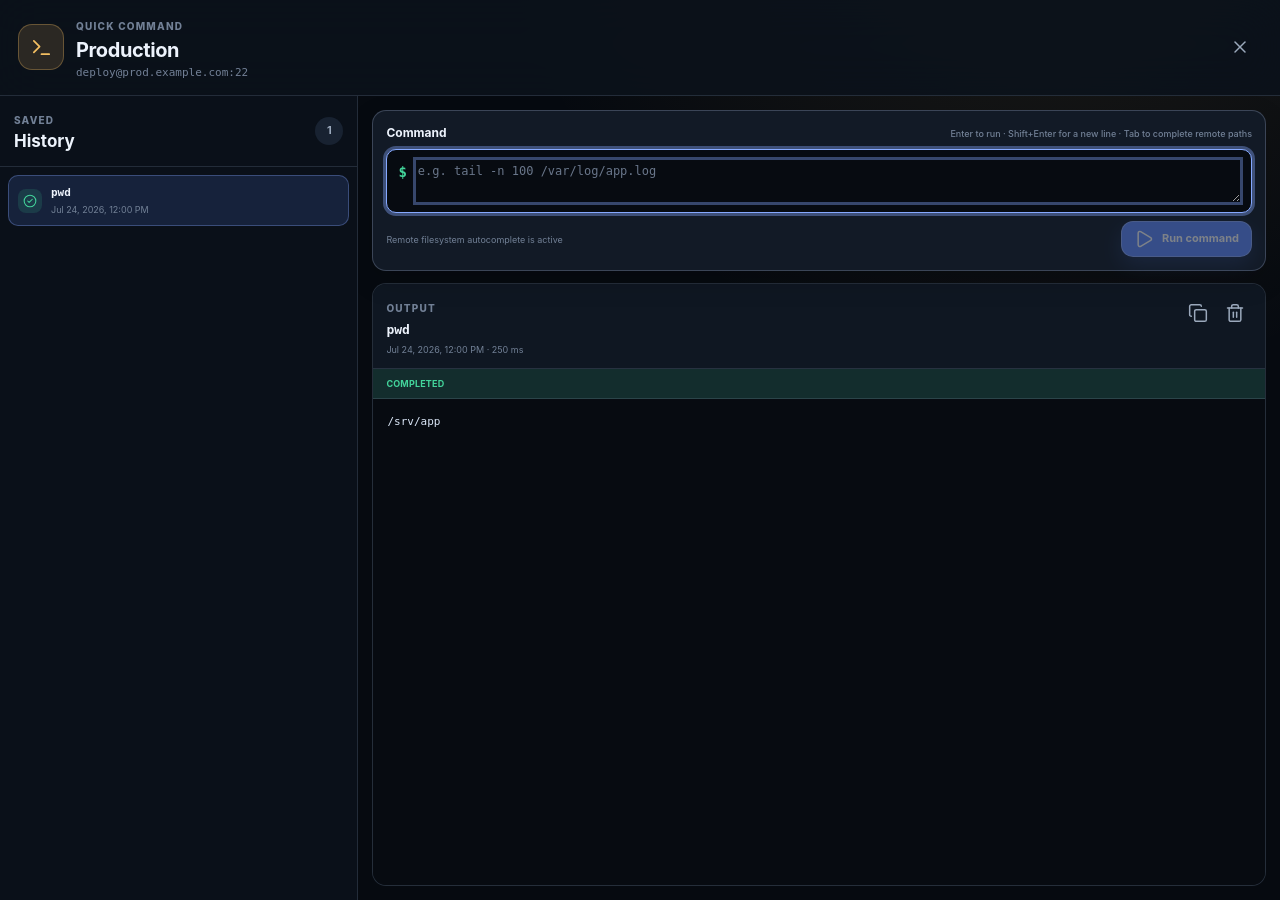
Test: quick command window › deletes a selected prompt and its output from saved history
Expected: the text "/srv/app" is shown, x1=373 y1=399 x2=1265 y2=885
Click the button named "Delete selected command history" at {"x": 1235, "y": 313}, box x1=1218 y1=296 x2=1252 y2=330
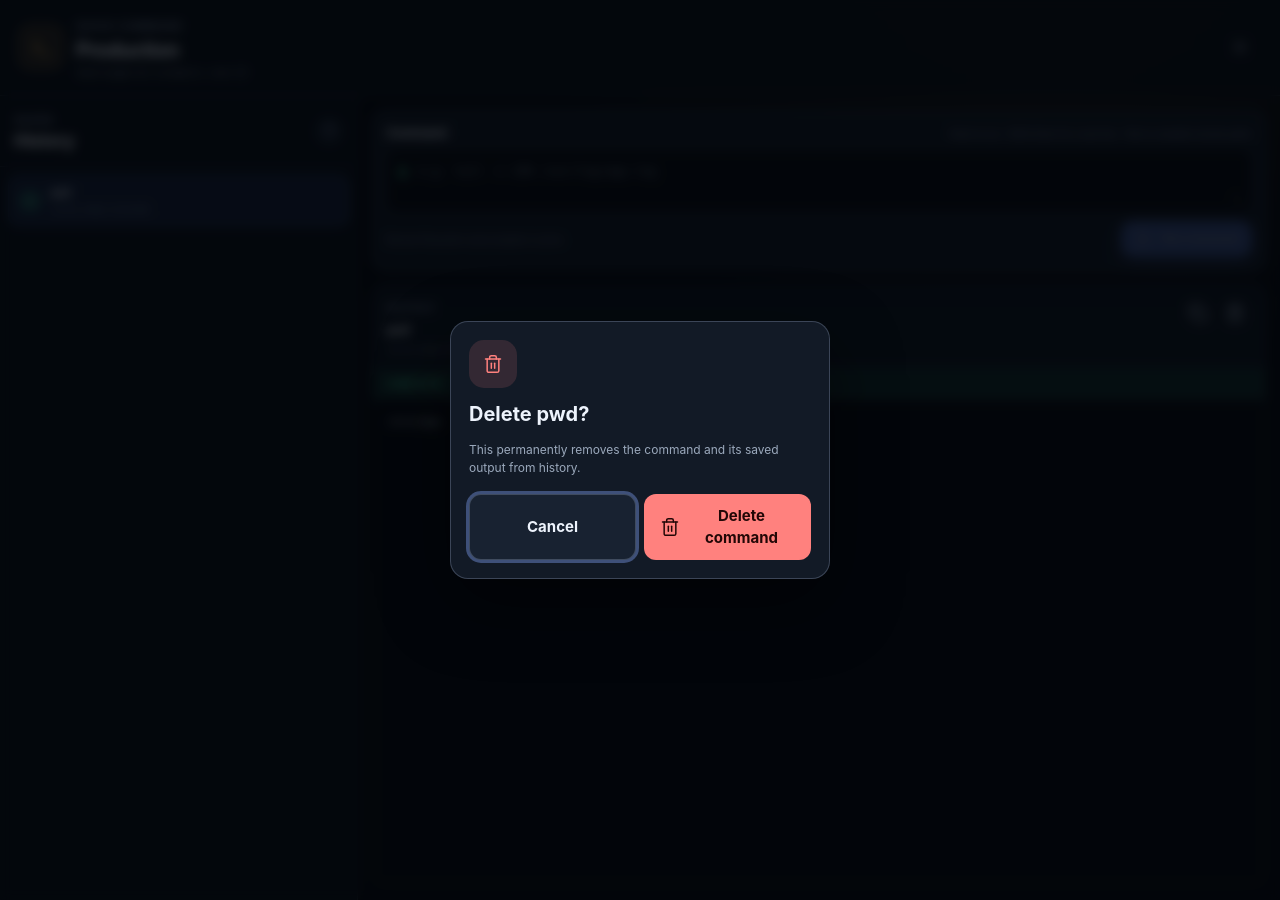
Now the heading "Delete pwd?" is shown, box x1=469 y1=402 x2=589 y2=426
Click the button "Cancel" at {"x": 552, "y": 527}, box x1=469 y1=494 x2=636 y2=560
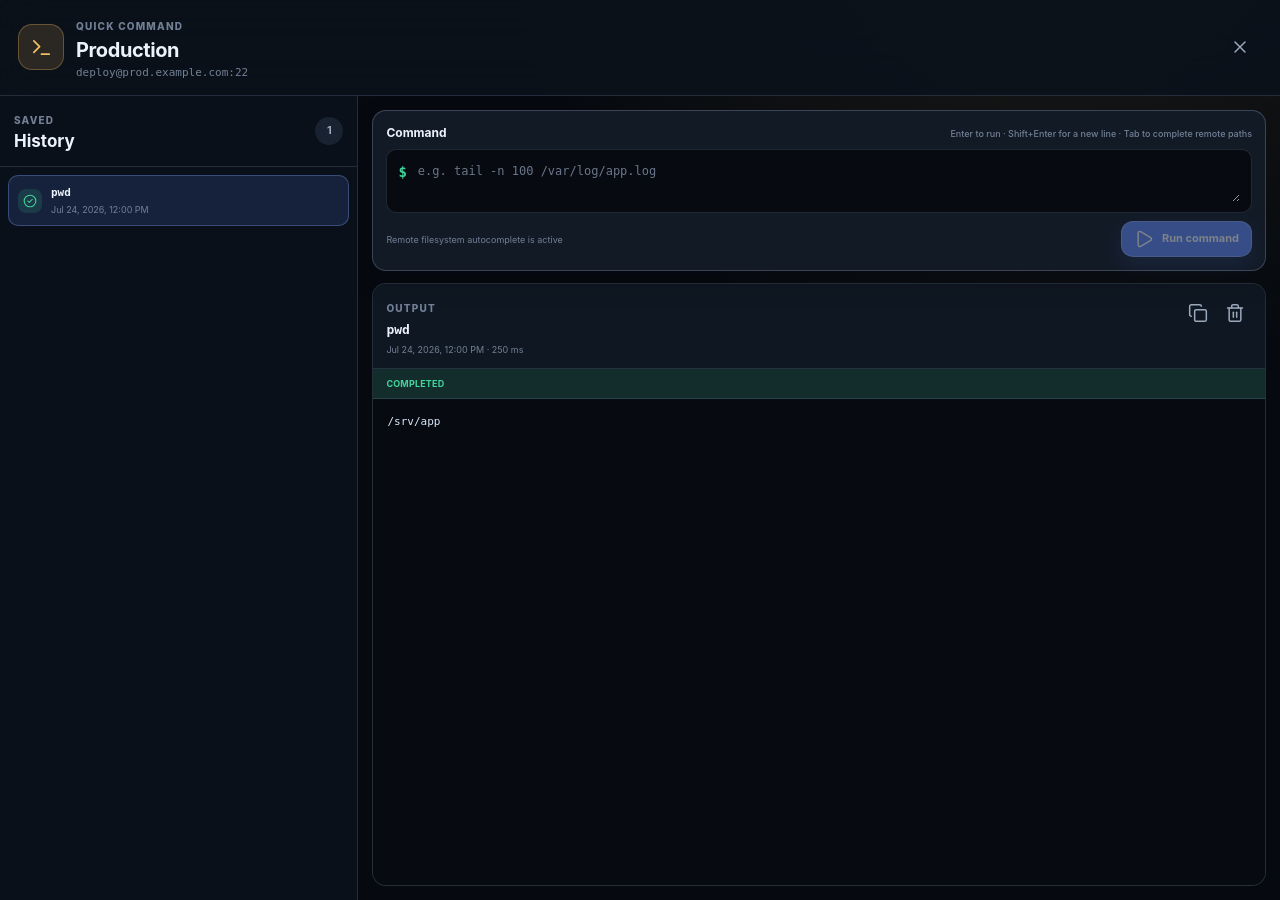
Now the heading "Delete pwd?" is gone
Click the button named "Delete selected command history" at {"x": 1235, "y": 313}, box x1=1218 y1=296 x2=1252 y2=330
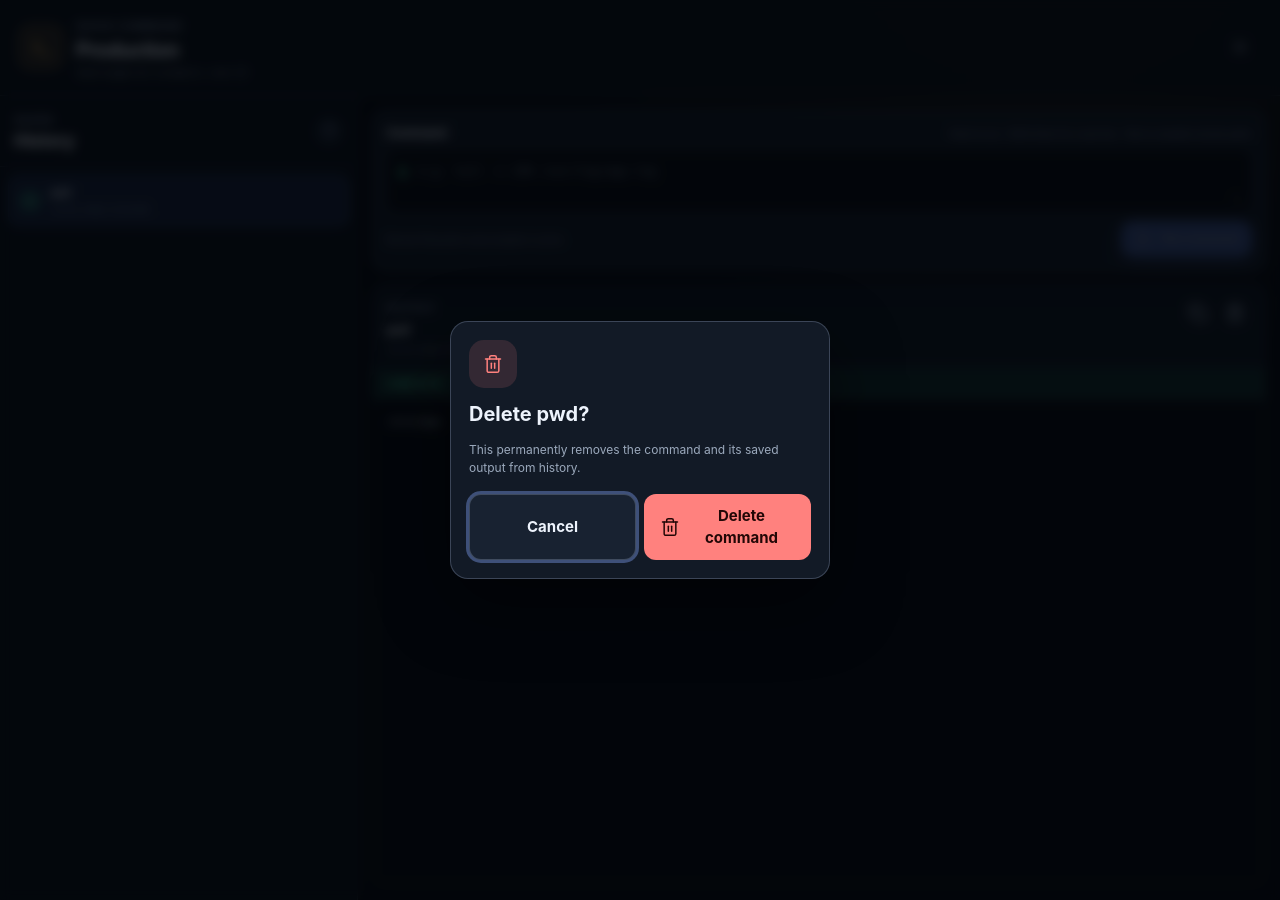
Click the button "Delete command" at {"x": 728, "y": 527}, box x1=644 y1=494 x2=811 y2=560
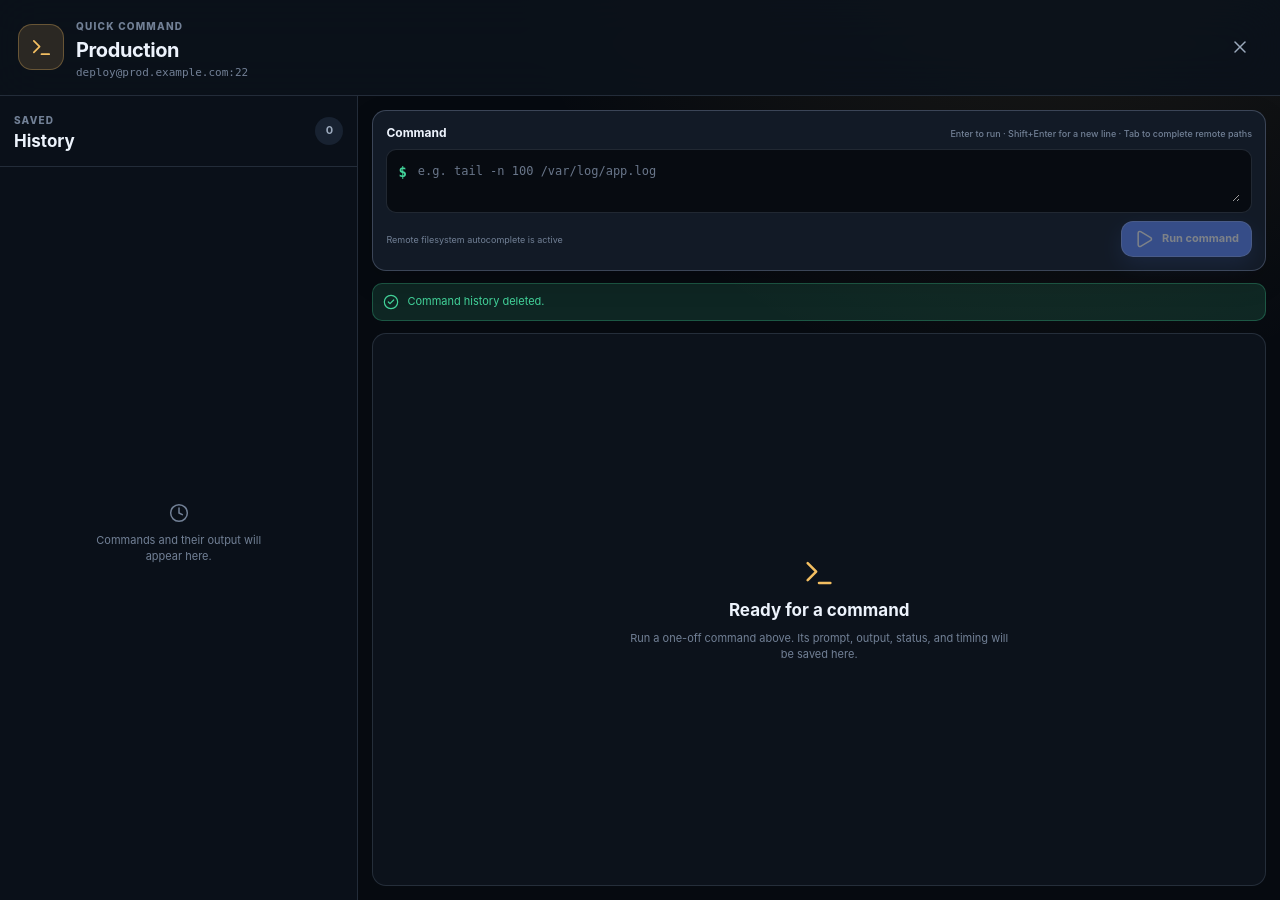
Now the text "/srv/app" is gone
Now the heading "Ready for a command" is shown, box x1=729 y1=598 x2=910 y2=623
